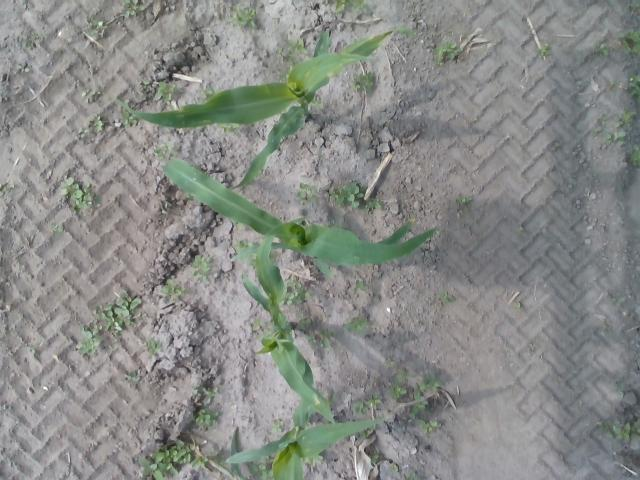Maize: (114, 27, 432, 190), (162, 158, 438, 276), (239, 216, 336, 422), (224, 401, 386, 480), (230, 428, 247, 480)
Weeds: (94, 290, 144, 338), (137, 439, 195, 480), (410, 374, 445, 418), (59, 175, 100, 212), (327, 180, 368, 209), (591, 418, 640, 442), (434, 38, 464, 67), (276, 37, 308, 63), (76, 112, 110, 136), (281, 275, 309, 304), (188, 408, 222, 430), (76, 325, 100, 355), (353, 392, 382, 416), (388, 368, 410, 399), (160, 277, 188, 301), (230, 4, 258, 28), (190, 253, 212, 282), (306, 329, 336, 350), (154, 80, 180, 104), (83, 17, 107, 39), (296, 182, 321, 203), (619, 28, 639, 54), (416, 418, 444, 436), (351, 72, 374, 92), (342, 317, 370, 333), (20, 33, 46, 50), (154, 140, 178, 158), (122, 0, 146, 17), (627, 72, 640, 103), (251, 462, 273, 480), (456, 195, 473, 218), (592, 114, 608, 137), (620, 106, 638, 126), (294, 310, 312, 330), (363, 197, 382, 215), (202, 386, 222, 403), (348, 0, 368, 16), (436, 291, 454, 308), (120, 110, 138, 126), (628, 144, 640, 168), (606, 132, 626, 146), (215, 124, 240, 134), (82, 90, 101, 103), (123, 370, 140, 384), (148, 337, 162, 354), (191, 455, 209, 468), (330, 0, 348, 13), (535, 42, 549, 58), (594, 40, 608, 56), (272, 418, 286, 434), (616, 380, 628, 398), (308, 456, 326, 467), (0, 182, 14, 196), (354, 280, 368, 294), (276, 66, 290, 80), (50, 222, 65, 234), (202, 85, 215, 98), (212, 452, 224, 466), (384, 356, 396, 370), (232, 240, 252, 248), (608, 80, 618, 96), (402, 470, 418, 480), (360, 427, 375, 437), (162, 202, 174, 214), (612, 115, 624, 127), (140, 78, 150, 92), (312, 98, 323, 110), (528, 343, 540, 354), (390, 462, 400, 474), (16, 64, 29, 73), (627, 0, 640, 8), (26, 346, 36, 356), (551, 142, 562, 151), (250, 254, 256, 270), (370, 455, 378, 466), (602, 320, 609, 331), (386, 119, 394, 128), (612, 297, 620, 306), (471, 218, 478, 226), (515, 300, 521, 308), (192, 387, 198, 394), (519, 224, 524, 231)
